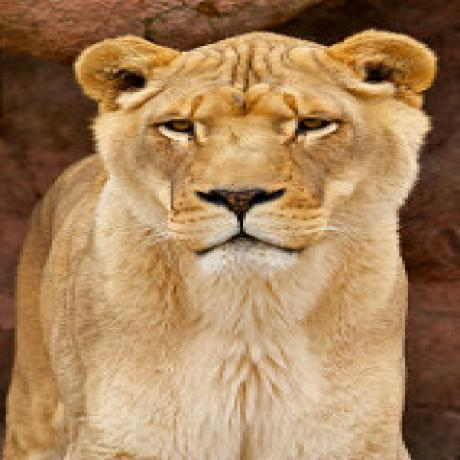Lion: (0, 27, 443, 460)
